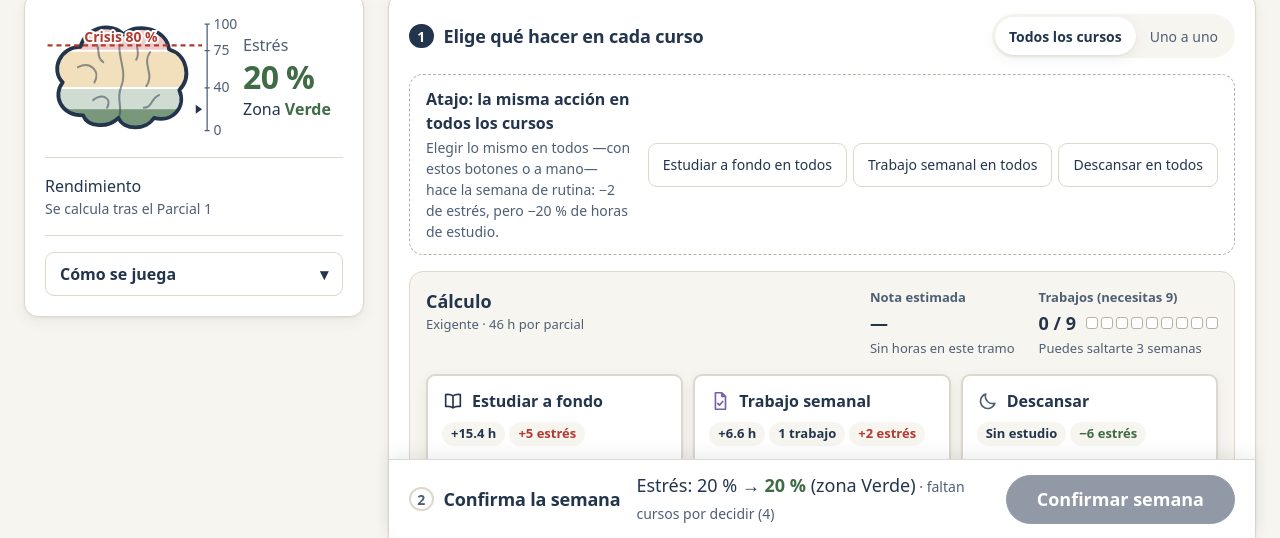
Scenario: interfaz › avisa de la rutina al elegir lo mismo en todas y deja de avisar al variar
What coordinates should you click on to do the following:
click the button "Estudiar a fondo en todos"
I would click on:
 (747, 164)
Its box is [648,142,847,186].
(page scrolled)
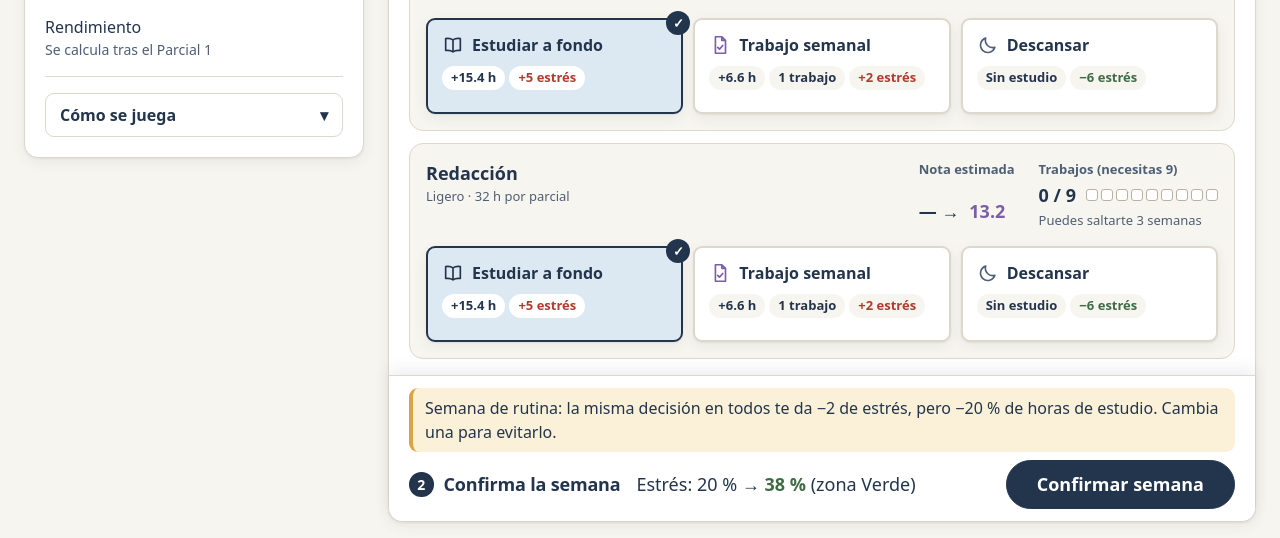
Check: the text "Semana de rutina" is shown, box [425,397,817,419]
Check: the text "Estrés: 20 % → 38 % (zona Verde)" is shown, box [636,472,916,496]
What coordinates should you click on to do the following:
click the button "Trabajo semanal" below "13.2"
I would click on:
 (822, 294)
Its box is [693,246,951,342].
(page scrolled)
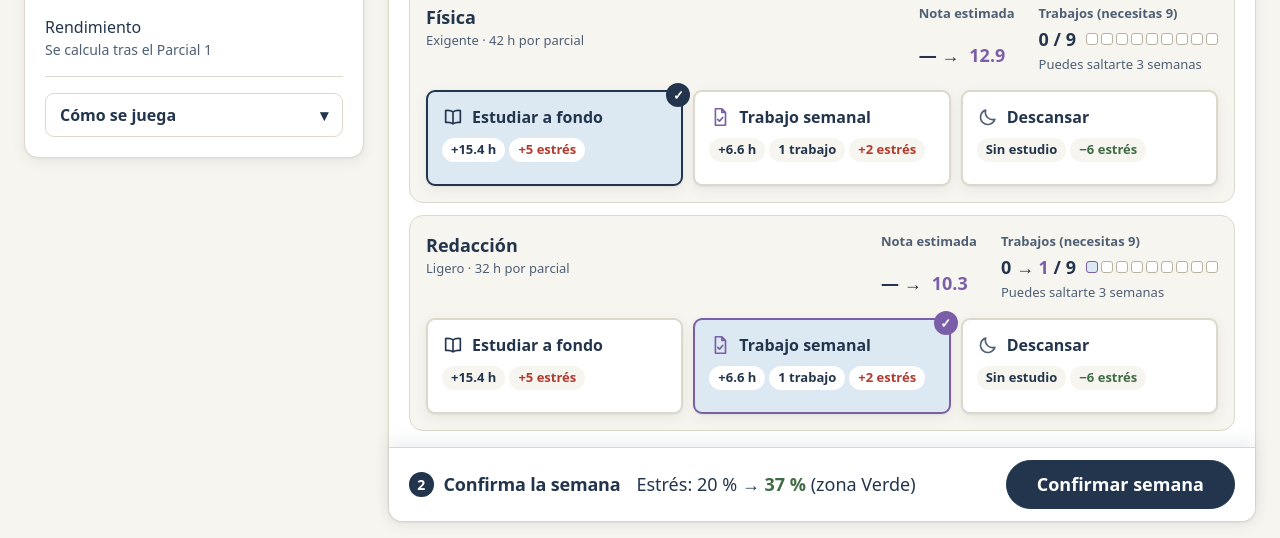
Check: the text "Semana de rutina" is not shown
Check: the text "Estrés: 20 % → 37 % (zona Verde)" is shown, box [636,472,916,496]
